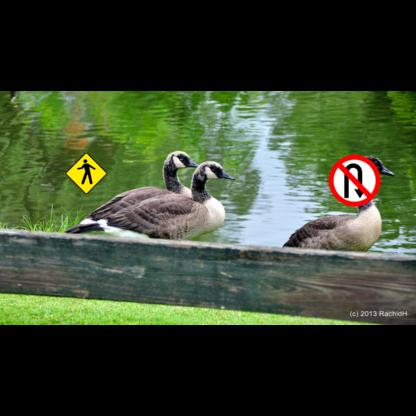A-32a: (65, 152, 108, 195)
